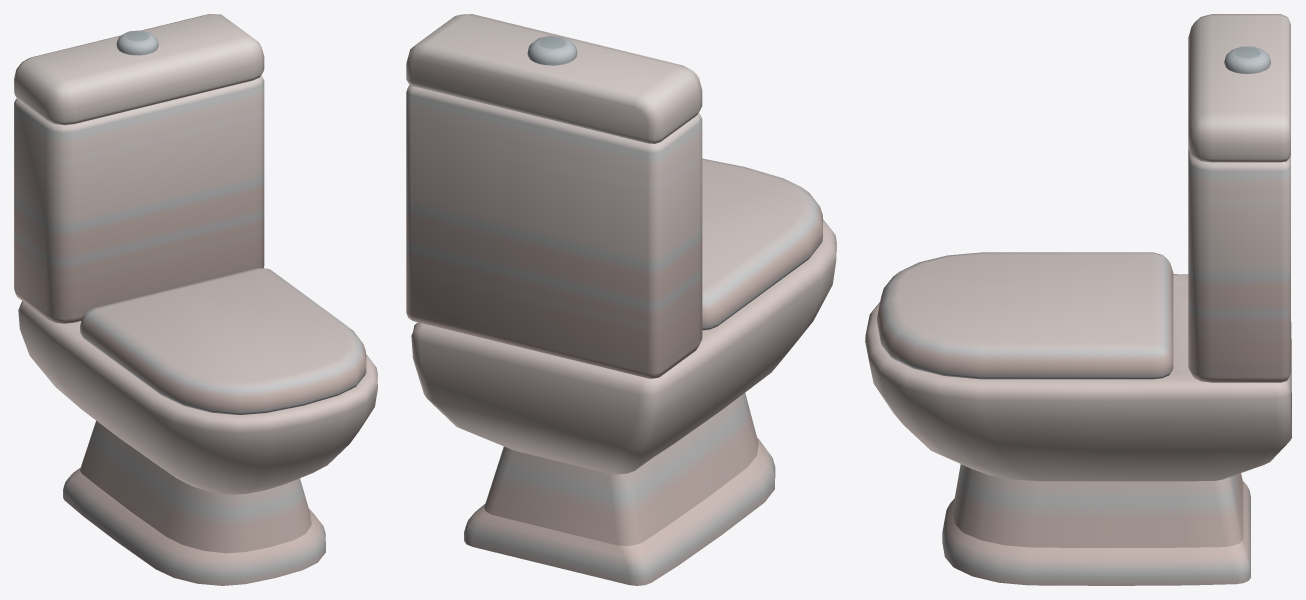
The model's file is toilet-03.glb.
3 renders of one model, left to right at view 1: azimuth 30°, elevation 25°; view 2: azimuth 150°, elevation 25°; view 3: azimuth 270°, elevation 25°, orthographic. The views are drawn at different scales.
Parts seen in each view (by area): view 1: Toilet_03, Toilet_03_Cover; view 2: Toilet_03, Toilet_03_Cover; view 3: Toilet_03, Toilet_03_Cover.
Part boxes in pixels (<box>): Toilet_03: <box>14,14,377,585</box>; Toilet_03_Cover: <box>80,268,366,414</box>; Toilet_03: <box>406,14,836,585</box>; Toilet_03_Cover: <box>702,158,822,330</box>; Toilet_03: <box>865,14,1291,585</box>; Toilet_03_Cover: <box>877,252,1173,379</box>.
Bounding box in the file's own units: 0.4174 × 0.8017 × 0.6345.
1 material, 1 textured.
